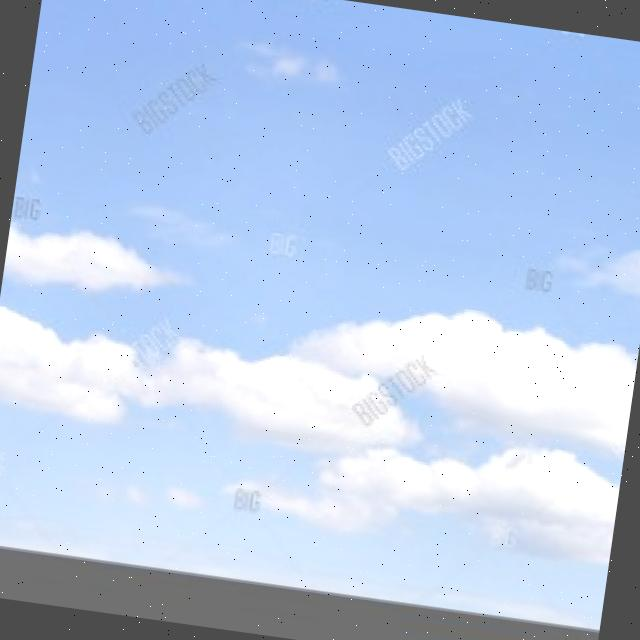Cs: (1, 217, 640, 579)
